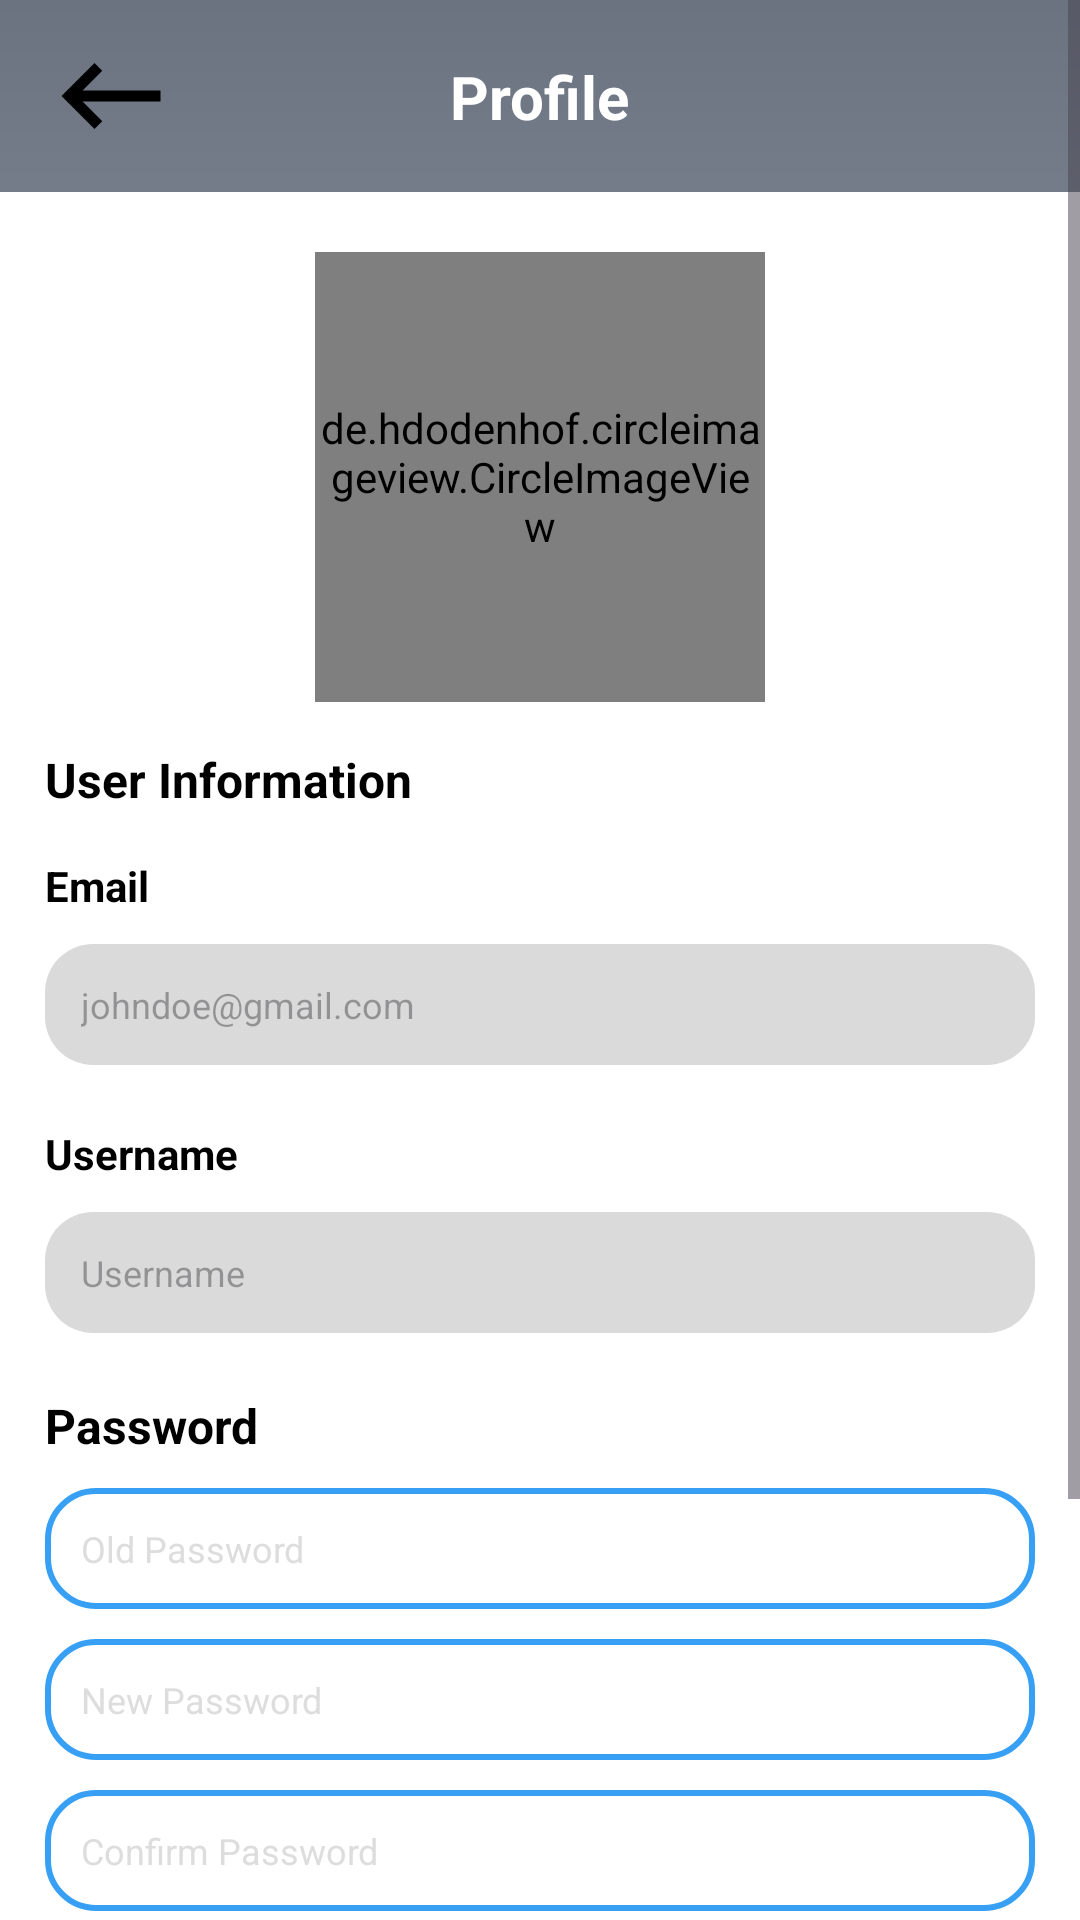

Icon click points for this 1080 × 1920 phone screenshot, format (x,y):
back: (111,96)
